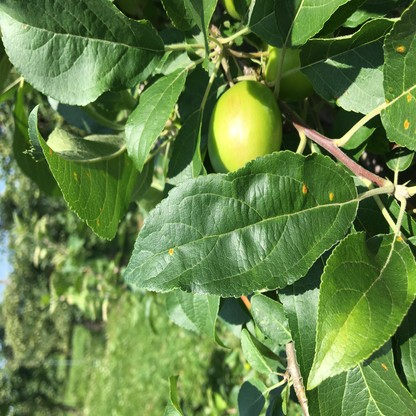rust: (379, 362, 388, 371), (397, 44, 405, 52), (404, 118, 409, 130), (73, 170, 79, 180), (406, 93, 412, 102), (302, 185, 307, 194), (328, 191, 333, 200), (48, 147, 53, 155), (169, 247, 173, 255), (385, 96, 389, 104), (86, 170, 91, 176)
